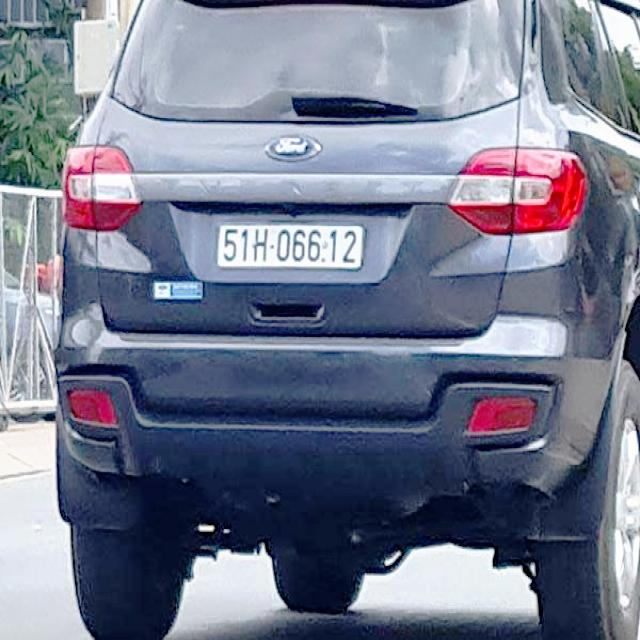license_plate: (217, 223, 366, 268)
